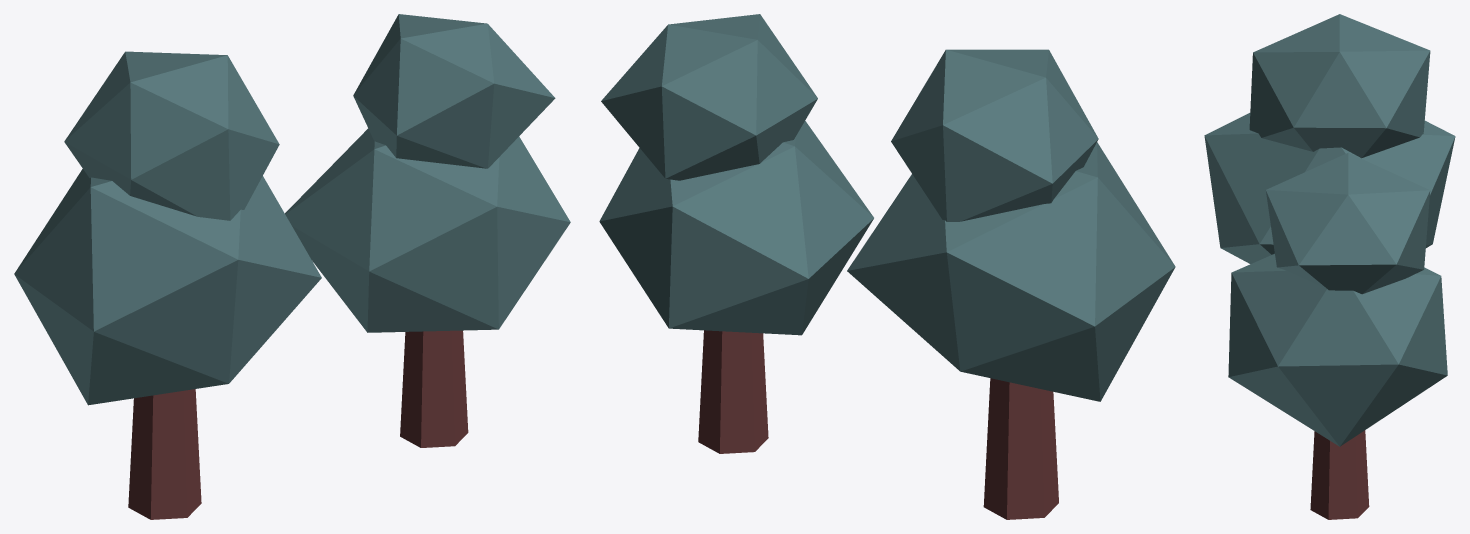
The model's file is grove0.glb.
The picture shows the model from 3 angles, left to right: view 1: azimuth 30°, elevation 25°; view 2: azimuth 150°, elevation 25°; view 3: azimuth 270°, elevation 25°; orthographic projection. The views are drawn at different scales.
Visible parts, largest first — view 1: grove0; view 2: grove0; view 3: grove0.
Boxes of the visible parts, x1,y1,x2,y2 form: grove0: (14,14,570,519); grove0: (599,14,1175,519); grove0: (1204,14,1455,519).
Bounding box in the file's own units: 1.17 × 0.9862 × 0.6068.
